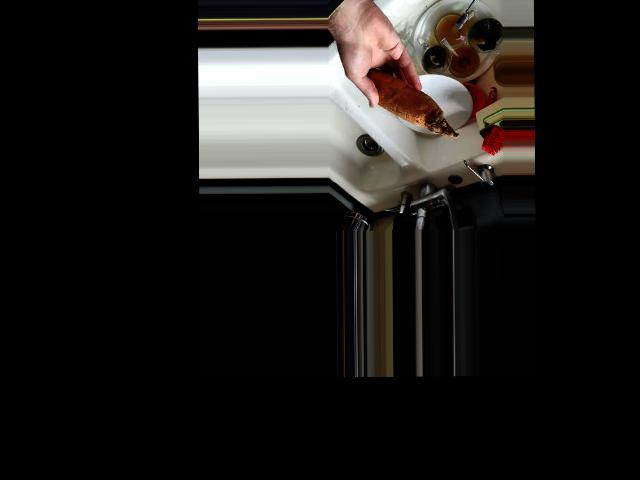sweet_potato: (359, 62, 461, 138)
